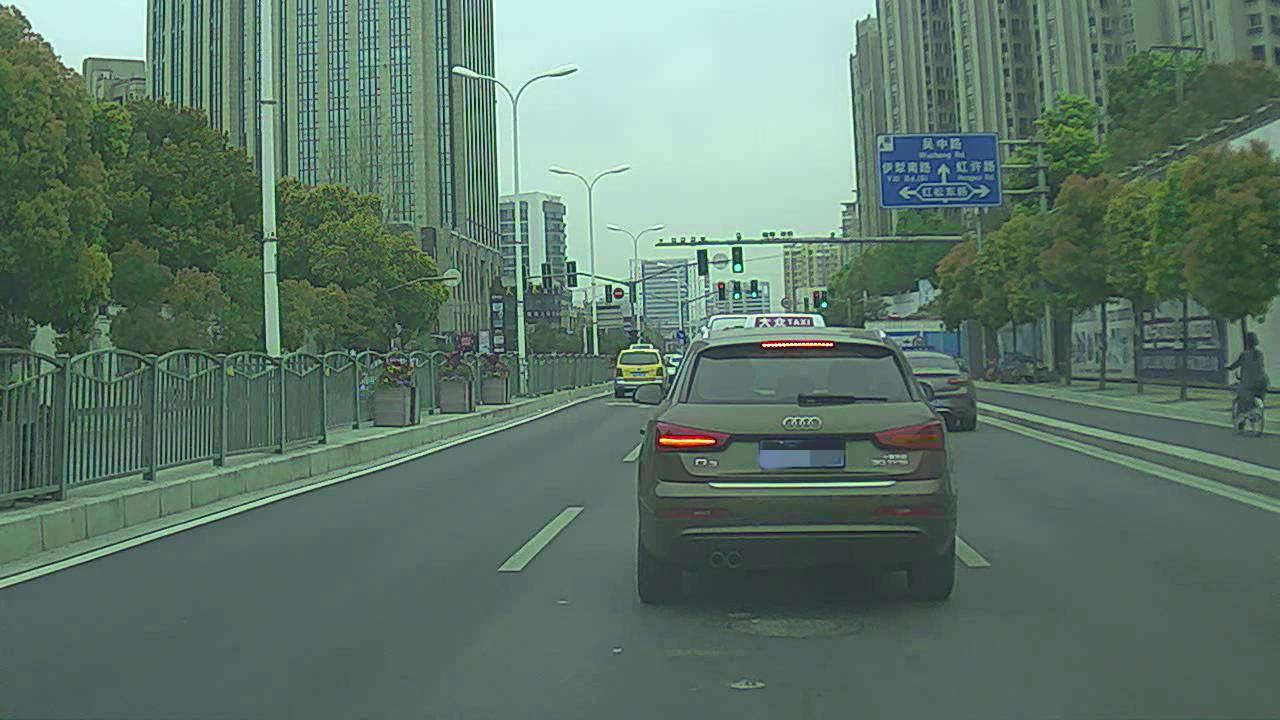traffic_light: (731, 247, 744, 272), (695, 251, 706, 277), (812, 290, 821, 310), (717, 282, 726, 300), (750, 279, 758, 299), (733, 282, 741, 300), (821, 293, 828, 308)
